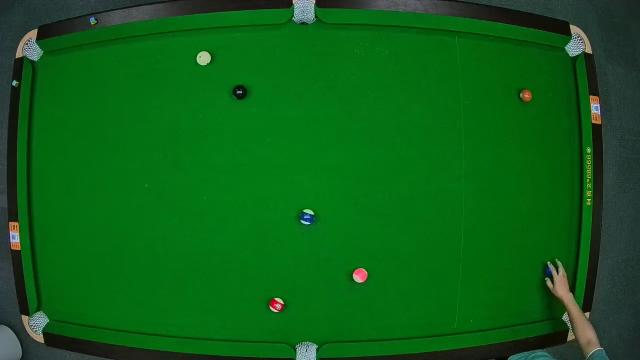bag1: (22, 38, 44, 60)
bag2: (291, 0, 317, 26)
bag3: (566, 29, 588, 57)
bag4: (29, 310, 49, 334)
bag5: (294, 340, 320, 360)
ball0: (195, 50, 212, 66)
ball10: (300, 208, 316, 226)
ball11: (269, 295, 285, 313)
ball12: (353, 268, 369, 284)
ball7: (520, 87, 532, 103)
ball8: (232, 86, 246, 100)
